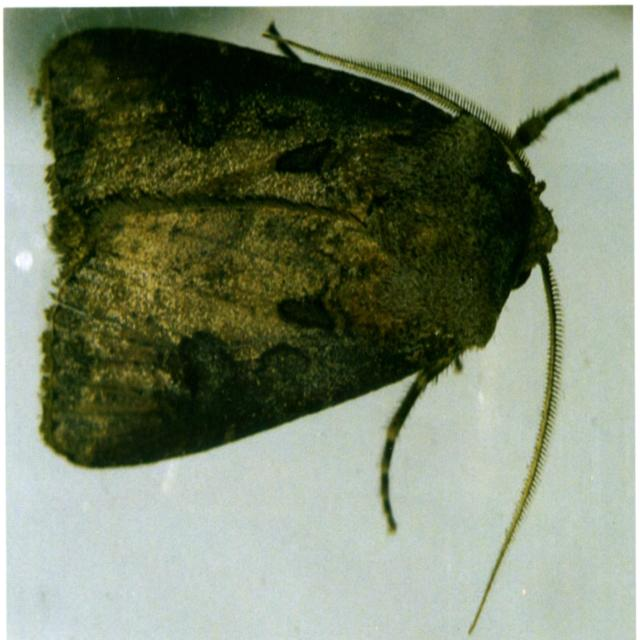black cutworm: (25, 30, 563, 485)
